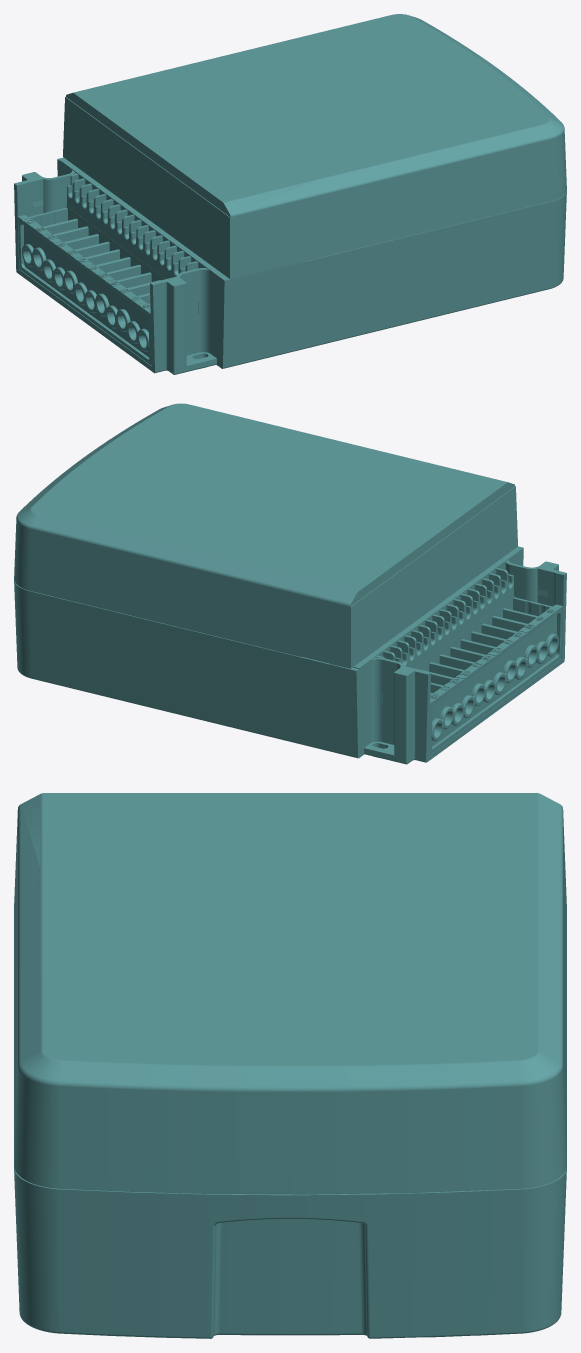
The model's file is terminal.glb.
3 views of the same model, one above another, from view 1: azimuth 30°, elevation 25°; view 2: azimuth 150°, elevation 25°; view 3: azimuth 270°, elevation 25° (orthographic). The views are drawn at different scales.
Visible parts, largest first — view 1: terminal; view 2: terminal; view 3: terminal.
Boxes of the visible parts, x1=… form: terminal: x1=14, y1=14, x2=566, y2=374; terminal: x1=14, y1=403, x2=566, y2=764; terminal: x1=14, y1=793, x2=566, y2=1338.
Size of the model in its own units: 0.26 by 0.096 by 0.18.
